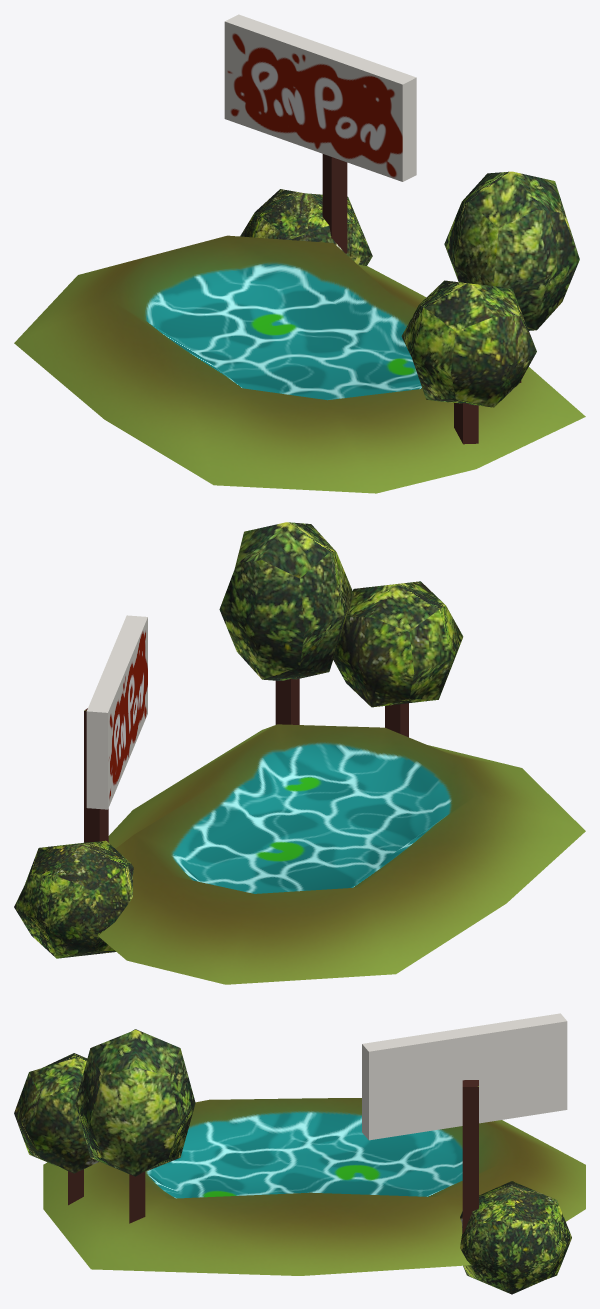
Rendered from M_lac.FBX.
3 renders of one model, top to bottom at view 1: azimuth 30°, elevation 25°; view 2: azimuth 150°, elevation 25°; view 3: azimuth 270°, elevation 25°, orthographic. The views are drawn at different scales.
Visible parts, largest first — view 1: Box001; view 2: Box001; view 3: Box001.
Part boxes in pixels (bbox=[...]): Box001: bbox=[14, 14, 585, 493]; Box001: bbox=[14, 522, 585, 984]; Box001: bbox=[14, 1013, 585, 1294].
Size of the model in its own units: 69.16 by 49.53 by 99.41.
